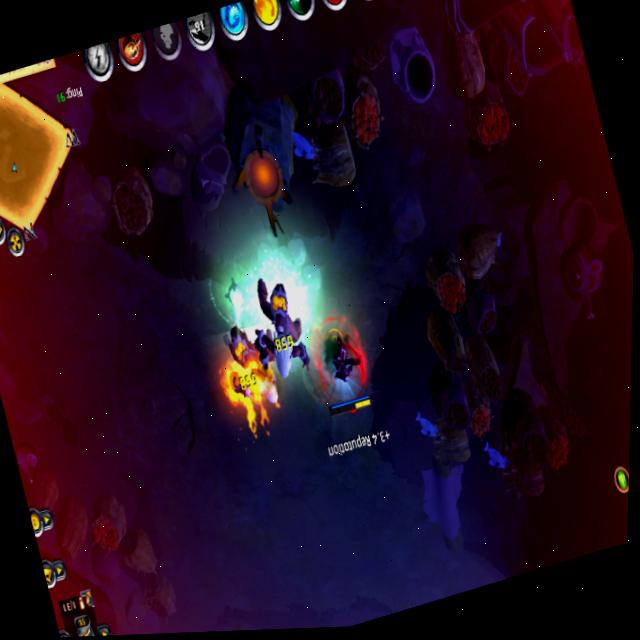ore: (234, 252, 320, 387), (208, 304, 296, 422)
red: (299, 311, 380, 428)
